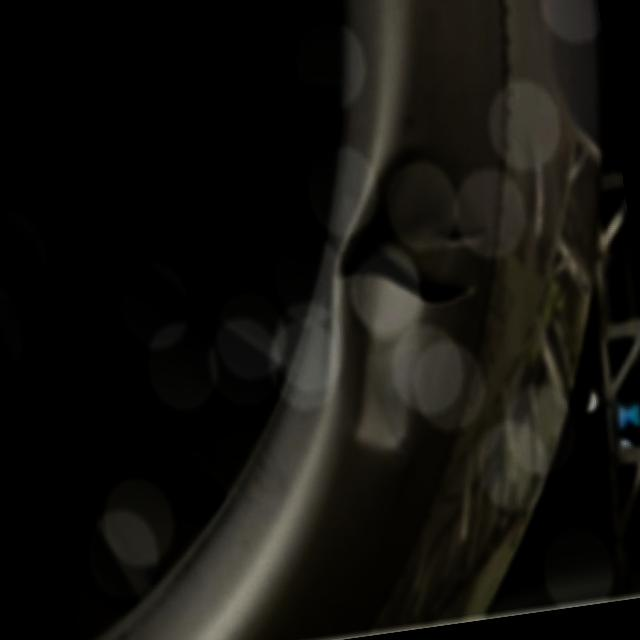crack: (326, 128, 506, 330)
